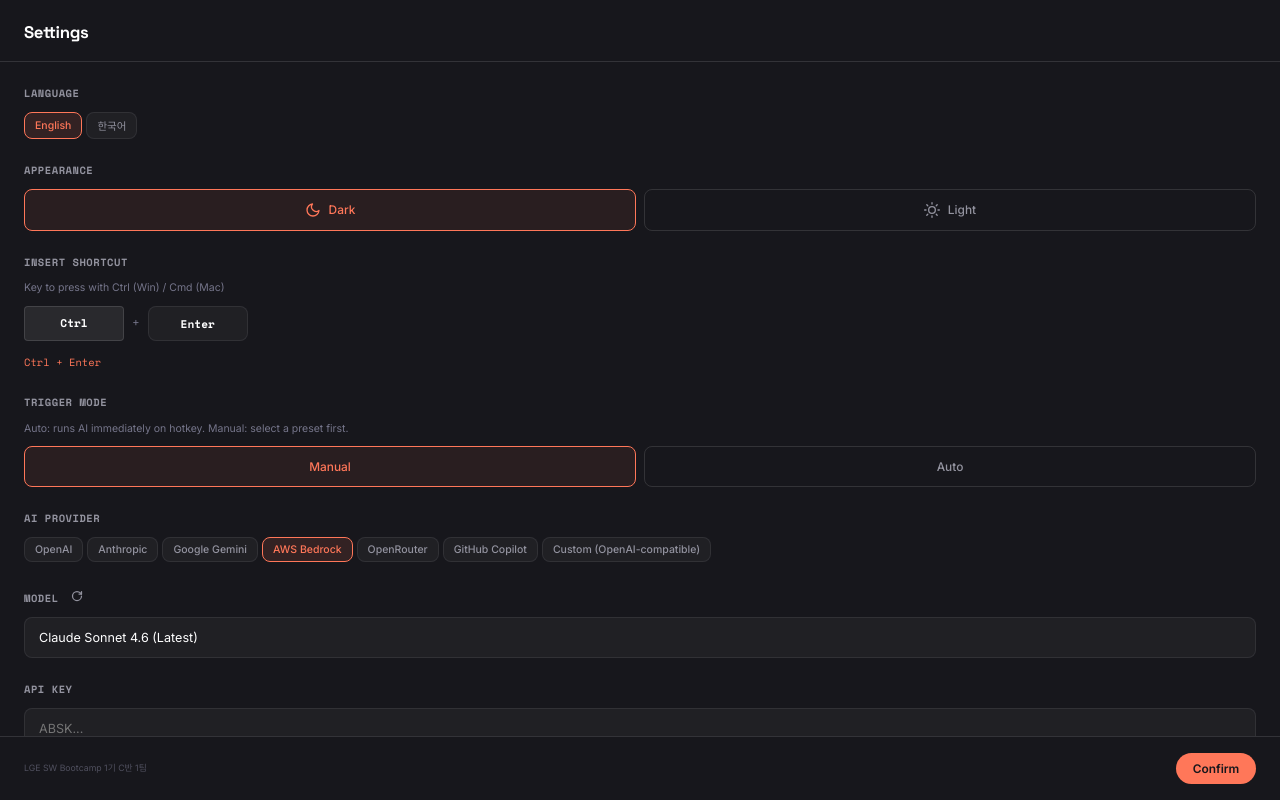
Test: SettingsWindow › insert shortcut › pressing Space sets shortcut to Space
This screenshot has width=1280, height=800.
Click the field showing "Enter" at (198, 324), box top-left (148, 306), bottom-right (248, 341)
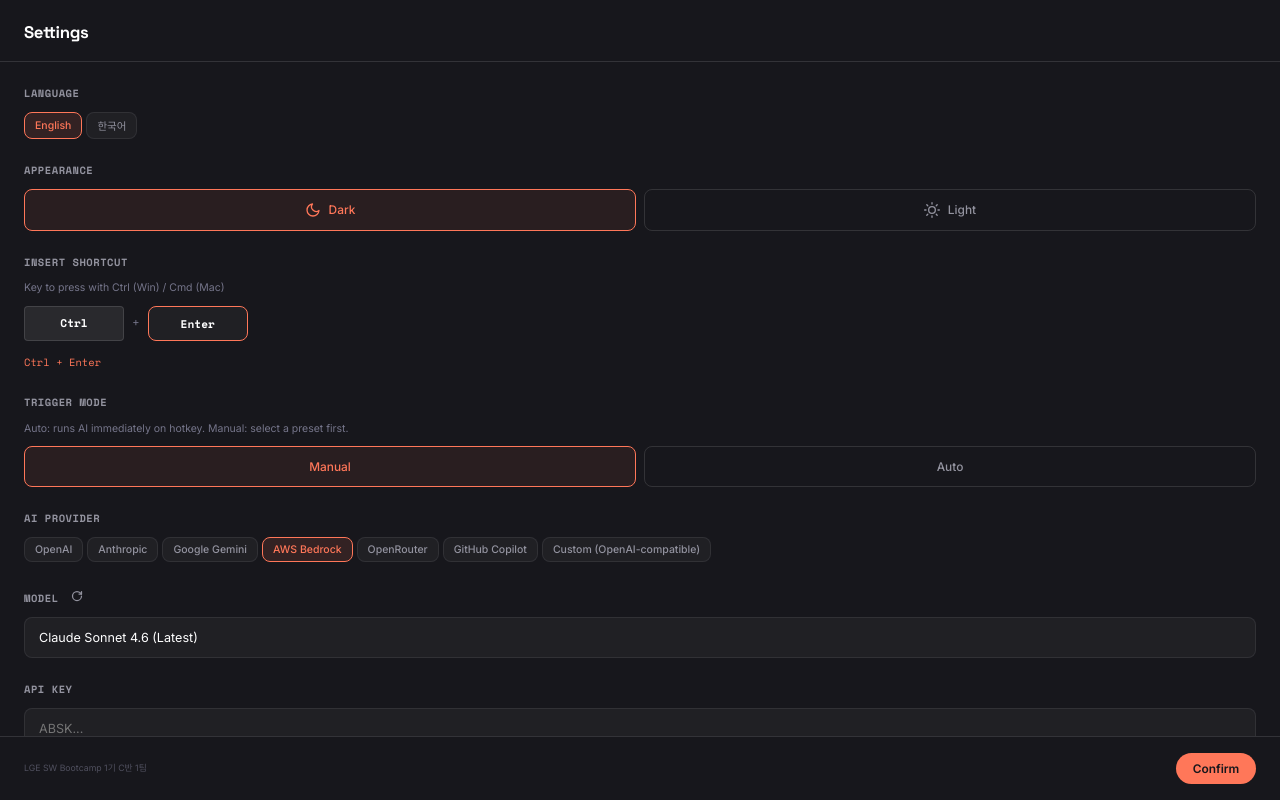
Type keys " "
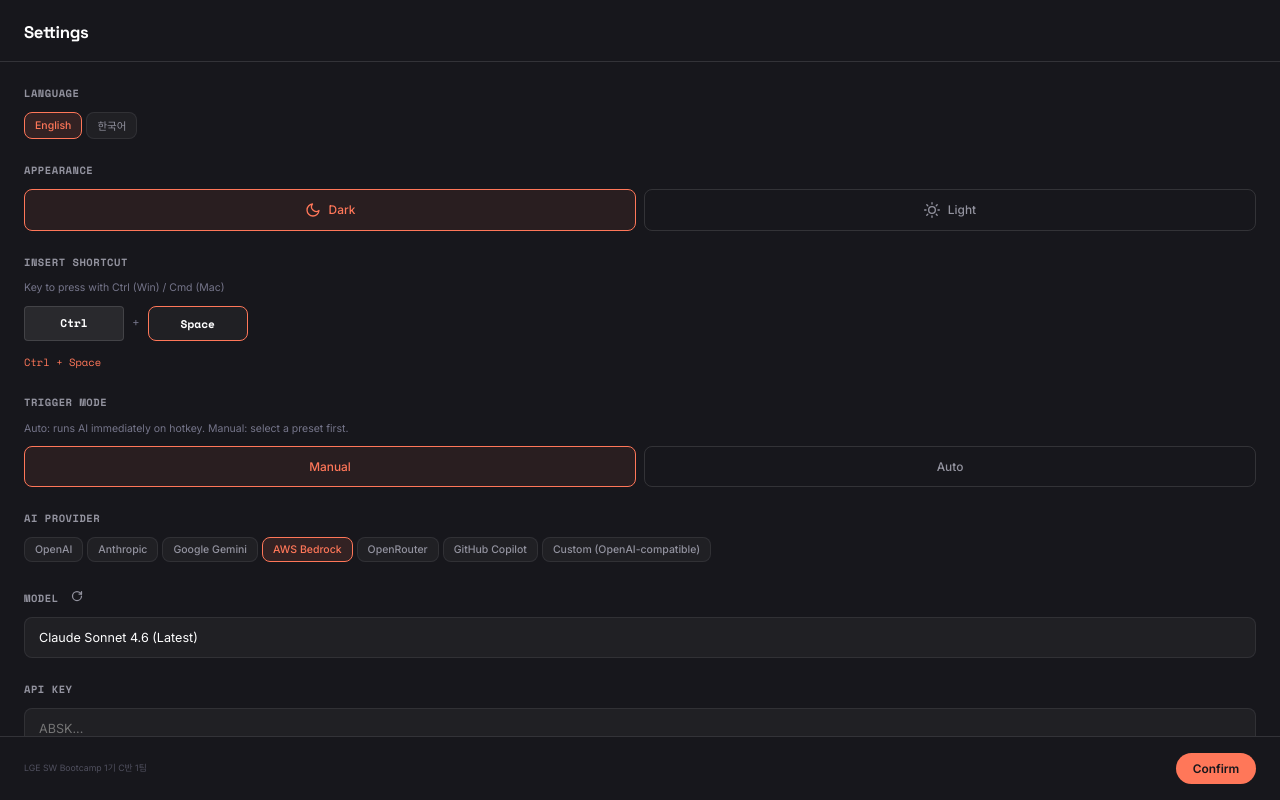
Now the field showing "Space" is shown, box top-left (148, 306), bottom-right (248, 341)
